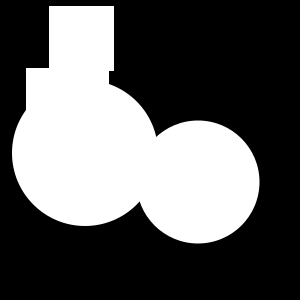circle: (26, 68, 109, 151), (49, 6, 114, 71)
rectangle: (12, 80, 158, 226), (137, 121, 260, 244)
